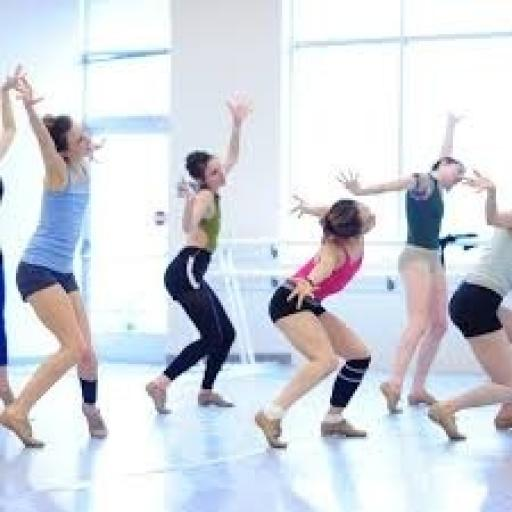dancing: (0, 64, 114, 453), (141, 88, 257, 418), (250, 189, 380, 453)
